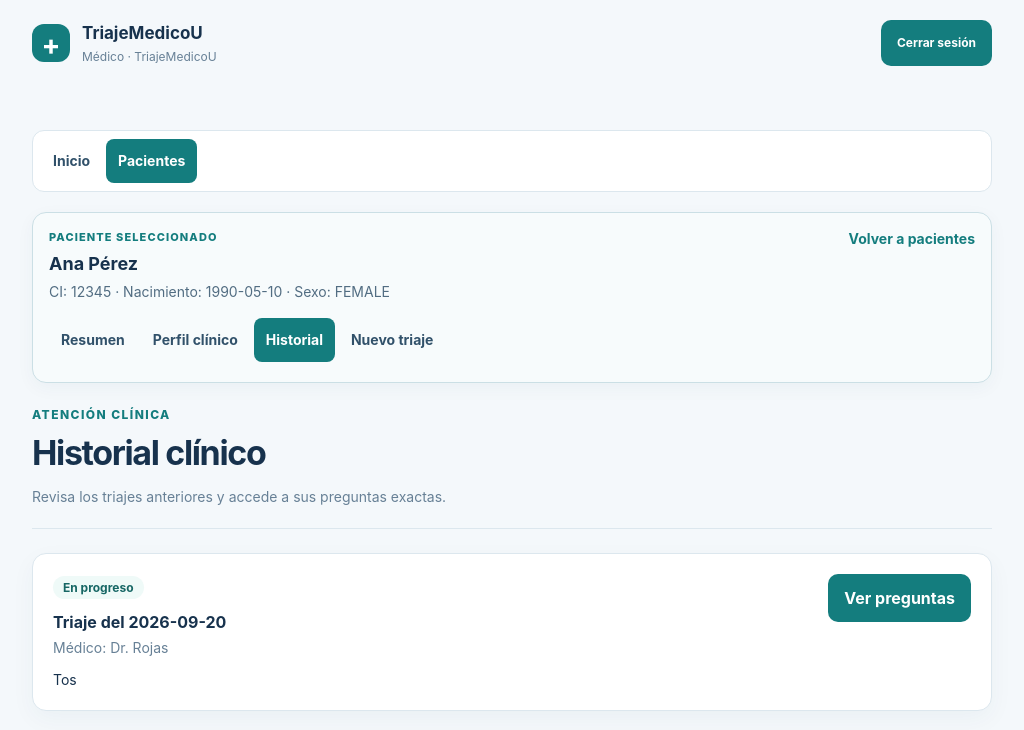
Test: AuthenticatedLanding routed clinical workflow › lets the physician reach the exact triage questions route
Click the button "Ver preguntas" at point(900, 598), box [828, 574, 971, 622]
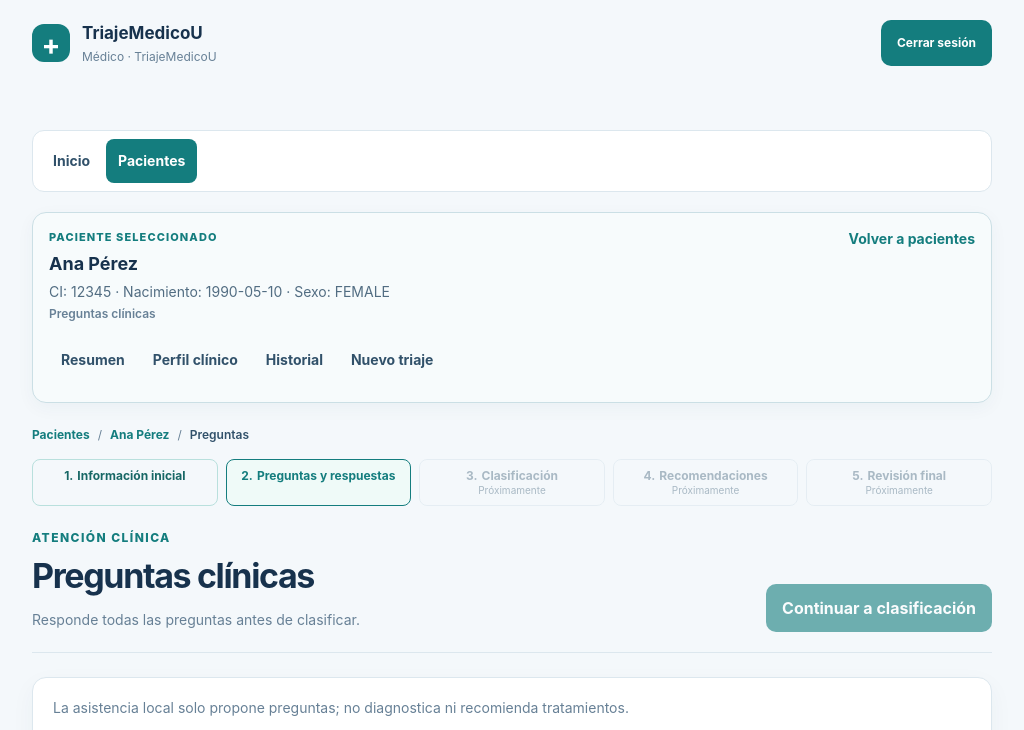
Now the heading "Preguntas clínicas" is shown, box [32, 550, 360, 601]
